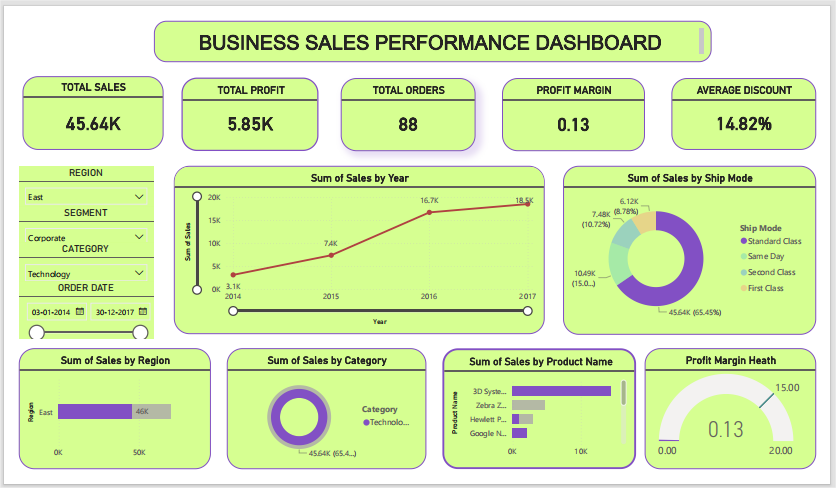

Layout of this report page (visuals, bound fields, positions):
{"tool":"powerbi","page":{"name":"Page 1","canvas":[1280,720],"ordinal":0},"visuals":[{"type":"card","title":"TOTAL SALES","fields":{"Values":["Sample - Superstore.Total Sales"]},"box":[5.8,89.3,226.1,118.1],"z":0},{"type":"card","title":"TOTAL PROFIT","fields":{"Values":["Sample - Superstore.Total Profit"]},"box":[260.6,90.7,220.3,118.1],"z":1000},{"type":"card","title":"TOTAL ORDERS","fields":{"Values":["Sample - Superstore.Total Orders"]},"box":[517,92.2,216,116.6],"z":2000},{"type":"card","title":"PROFIT MARGIN","fields":{"Values":["Sample - Superstore.Profit Margin"]},"box":[776.2,92.2,229,116.6],"z":3000},{"type":"lineChart","fields":{"Category":["Sample - Superstore.Order Date.Variation.Date Hierarchy.Year","Sample - Superstore.Order Date.Variation.Date Hierarchy.Quarter","Sample - Superstore.Order Date.Variation.Date Hierarchy.Month","Sample - Superstore.Order Date.Variation.Date Hierarchy.Day"],"Y":["Sum(Sample - Superstore.Sales)"]},"box":[249.1,233.3,594.7,269.3],"z":4000},{"type":"clusteredBarChart","fields":{"Category":["Sample - Superstore.Product Name"],"Y":["Sum(Sample - Superstore.Sales)"]},"box":[679.7,525.6,311,194.4],"z":5000},{"type":"donutChart","fields":{"Category":["Sample - Superstore.Category"],"Y":["Sum(Sample - Superstore.Sales)"]},"box":[334.1,525.6,319.7,194.4],"z":6000},{"type":"clusteredBarChart","fields":{"Category":["Sample - Superstore.Region"],"Y":["Sum(Sample - Superstore.Sales)"]},"box":[0,525.6,308.2,194.4],"z":7000},{"type":"donutChart","fields":{"Category":["Sample - Superstore.Ship Mode"],"Y":["Sum(Sample - Superstore.Sales)"]},"box":[874.1,233.3,406.1,270.7],"z":8000},{"type":"textbox","box":[217.4,0,894.2,66.2],"z":9000},{"type":"slicer","title":"REGION","fields":{"Values":["Sample - Superstore.Region"]},"box":[0,233.3,216,64.8],"z":10000},{"type":"slicer","title":"SEGMENT","fields":{"Values":["Sample - Superstore.Segment"]},"box":[0,298.1,216,57.6],"z":11000},{"type":"slicer","title":"CATEGORY","fields":{"Values":["Sample - Superstore.Category"]},"box":[0,355.7,216,63.4],"z":12000},{"type":"slicer","title":"ORDER DATE","fields":{"Values":["Sample - Superstore.Order Date"]},"box":[0,419,216,92.2],"z":13000},{"type":"card","title":"AVERAGE DISCOUNT","fields":{"Values":["Sample - Superstore.Average Discount"]},"box":[1048.3,92.2,231.8,115.2],"z":14000},{"type":"gauge","title":"Profit Margin Heath","fields":{"Y":["Sample - Superstore.Profit Margin"]},"box":[1005.1,525.6,275,194.4],"z":15000}]}

Visuals, with their boxes in screenshot pixels (x1, y1, x2, y2):
"TOTAL SALES" card: [x1=21, y1=95, x2=161, y2=168]
"TOTAL PROFIT" card: [x1=179, y1=96, x2=316, y2=169]
"TOTAL ORDERS" card: [x1=339, y1=96, x2=473, y2=169]
"PROFIT MARGIN" card: [x1=500, y1=96, x2=642, y2=169]
lineChart - Sample - Superstore.Order Date.Variation.Date Hierarchy.Year x Sample - Superstore.Order Date.Variation.Date Hierarchy.Quarter: [x1=172, y1=184, x2=542, y2=351]
clusteredBarChart - Sample - Superstore.Product Name x Sum(Sample - Superstore.Sales): [x1=440, y1=366, x2=633, y2=486]
donutChart - Sample - Superstore.Category x Sum(Sample - Superstore.Sales): [x1=225, y1=366, x2=424, y2=486]
clusteredBarChart - Sample - Superstore.Region x Sum(Sample - Superstore.Sales): [x1=17, y1=366, x2=209, y2=486]
donutChart - Sample - Superstore.Ship Mode x Sum(Sample - Superstore.Sales): [x1=560, y1=184, x2=813, y2=352]
textbox: [x1=152, y1=39, x2=708, y2=80]
"REGION" slicer: [x1=17, y1=184, x2=152, y2=224]
"SEGMENT" slicer: [x1=17, y1=224, x2=152, y2=260]
"CATEGORY" slicer: [x1=17, y1=260, x2=152, y2=300]
"ORDER DATE" slicer: [x1=17, y1=299, x2=152, y2=357]
"AVERAGE DISCOUNT" card: [x1=669, y1=96, x2=813, y2=168]
"Profit Margin Heath" gauge: [x1=642, y1=366, x2=813, y2=486]
